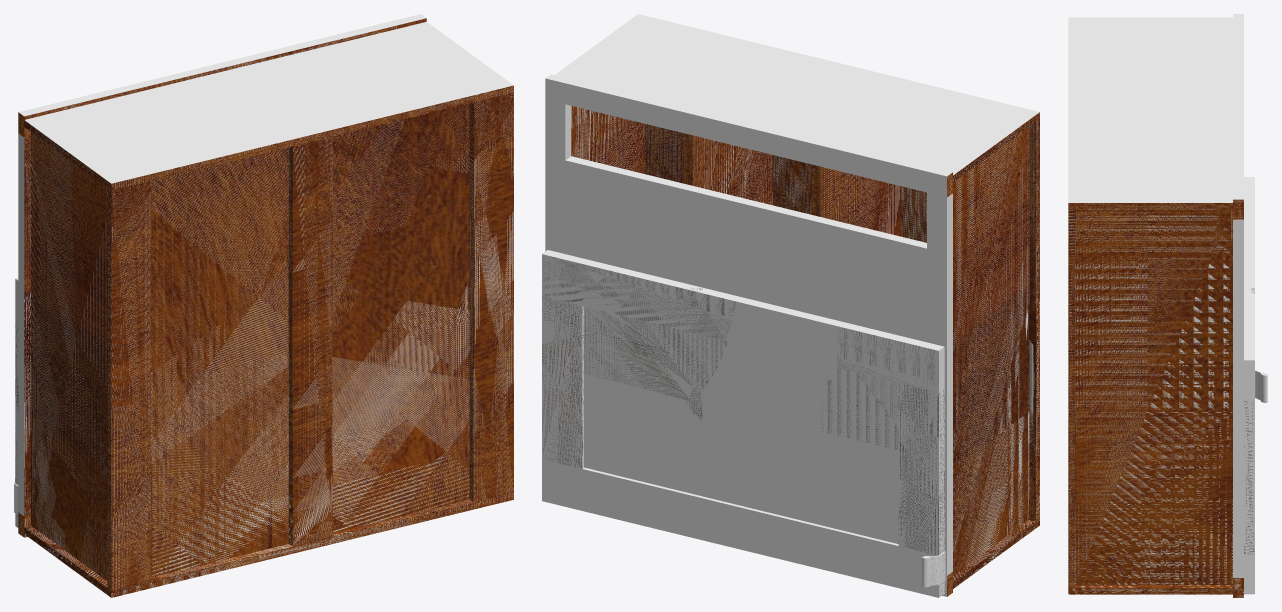
The picture shows the model from 3 angles, left to right: view 1: azimuth 30°, elevation 25°; view 2: azimuth 150°, elevation 25°; view 3: azimuth 270°, elevation 25°; orthographic projection. The views are drawn at different scales.
Parts seen in each view (by area): view 1: mesh6_mesh6-geometry, mesh3_mesh3-geometry, mesh8_mesh8-geometry, mesh1_mesh1-geometry, mesh7_mesh7-geometry, mesh4_mesh4-geometry, mesh9_mesh9-geometry, mesh16_mesh16-geometry; view 2: mesh17_mesh17-geometry, mesh11_mesh11-geometry, mesh1_mesh1-geometry, mesh8_mesh8-geometry, mesh14_mesh14-geometry, mesh13_mesh13-geometry, mesh9_mesh9-geometry, mesh4_mesh4-geometry, mesh12_mesh12-geometry, mesh16_mesh16-geometry, mesh15_mesh15-geometry, mesh5_mesh5-geometry (+3 smaller); view 3: mesh2_mesh2-geometry, mesh8_mesh8-geometry, mesh4_mesh4-geometry, mesh3_mesh3-geometry, mesh14_mesh14-geometry, mesh9_mesh9-geometry, mesh15_mesh15-geometry, mesh7_mesh7-geometry, mesh13_mesh13-geometry, mesh19_mesh19-geometry.
Boxes of the visible parts, x1,y1,x2,y2 form: mesh6_mesh6-geometry: (151,103,469,577); mesh3_mesh3-geometry: (107,92,513,590); mesh8_mesh8-geometry: (24,22,513,190); mesh1_mesh1-geometry: (31,132,107,581); mesh7_mesh7-geometry: (24,493,513,597); mesh4_mesh4-geometry: (18,133,30,516); mesh9_mesh9-geometry: (18,14,426,137); mesh16_mesh16-geometry: (15,321,18,485); mesh17_mesh17-geometry: (584,306,898,543); mesh11_mesh11-geometry: (565,156,926,342); mesh1_mesh1-geometry: (571,106,1029,575); mesh8_mesh8-geometry: (555,14,1039,182); mesh14_mesh14-geometry: (542,250,944,392); mesh13_mesh13-geometry: (542,459,944,597); mesh9_mesh9-geometry: (545,74,952,197); mesh4_mesh4-geometry: (545,99,952,575); mesh12_mesh12-geometry: (683,133,901,236); mesh16_mesh16-geometry: (898,383,944,555); mesh15_mesh15-geometry: (542,296,583,468); mesh5_mesh5-geometry: (644,124,926,242); mesh2_mesh2-geometry: (1075,209,1232,584); mesh8_mesh8-geometry: (1068,17,1232,209); mesh4_mesh4-geometry: (1233,219,1243,577); mesh3_mesh3-geometry: (1068,209,1075,587); mesh14_mesh14-geometry: (1244,177,1254,400); mesh9_mesh9-geometry: (1233,14,1243,219); mesh15_mesh15-geometry: (1244,400,1254,554); mesh7_mesh7-geometry: (1068,585,1232,594); mesh13_mesh13-geometry: (1244,554,1254,594); mesh19_mesh19-geometry: (1255,370,1267,402).
Size of the model in its own units: 0.6733 by 0.6733 by 0.3054.
